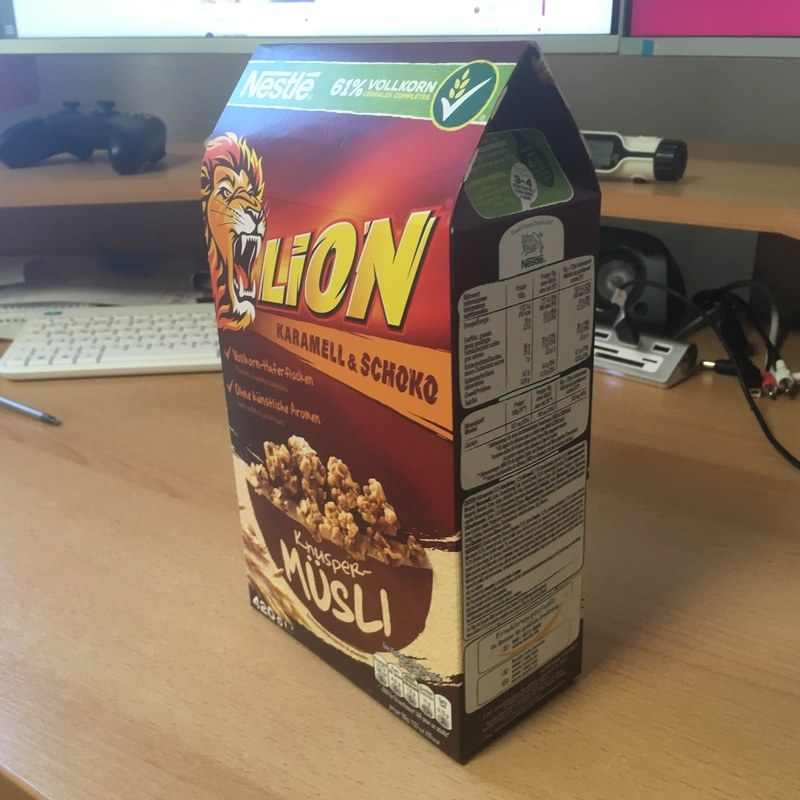cereals: (200, 39, 601, 763)
